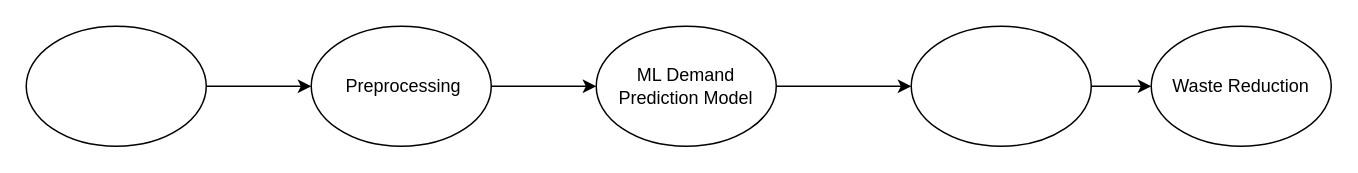
The diagram is 1358 pixels wide and 173 high, and some of its shapes have lost their labels. The centre of each missing label's shape, as x and y in pixels:
"Food Consumption Data" belongs at pixel 115 85.
"Prediction (Demand Forecast)" belongs at pixel 1000 85.
